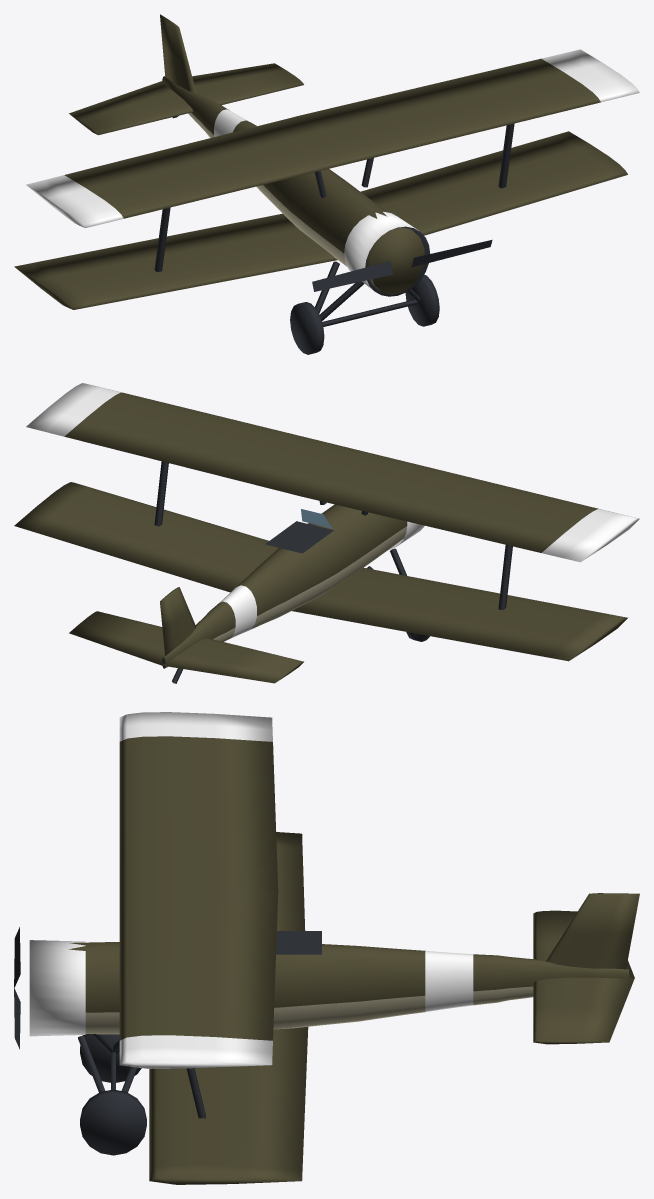
File: sopwith_pup.glb
The picture shows the model from 3 angles, top to bottom: view 1: azimuth 30°, elevation 25°; view 2: azimuth 150°, elevation 25°; view 3: azimuth 270°, elevation 25°; orthographic projection. The views are drawn at different scales.
Parts seen in each view (by area): view 1: body, prop; view 2: body; view 3: body, prop.
Part boxes in pixels (x1=…): body: x1=14, y1=14, x2=639, y2=354; prop: x1=312, y1=239, x2=492, y2=291; body: x1=14, y1=383, x2=639, y2=683; body: x1=29, y1=712, x2=639, y2=1184; prop: x1=14, y1=927, x2=20, y2=1049.
Bounding box in the file's own units: 8.08 × 2.51 × 6.15.
